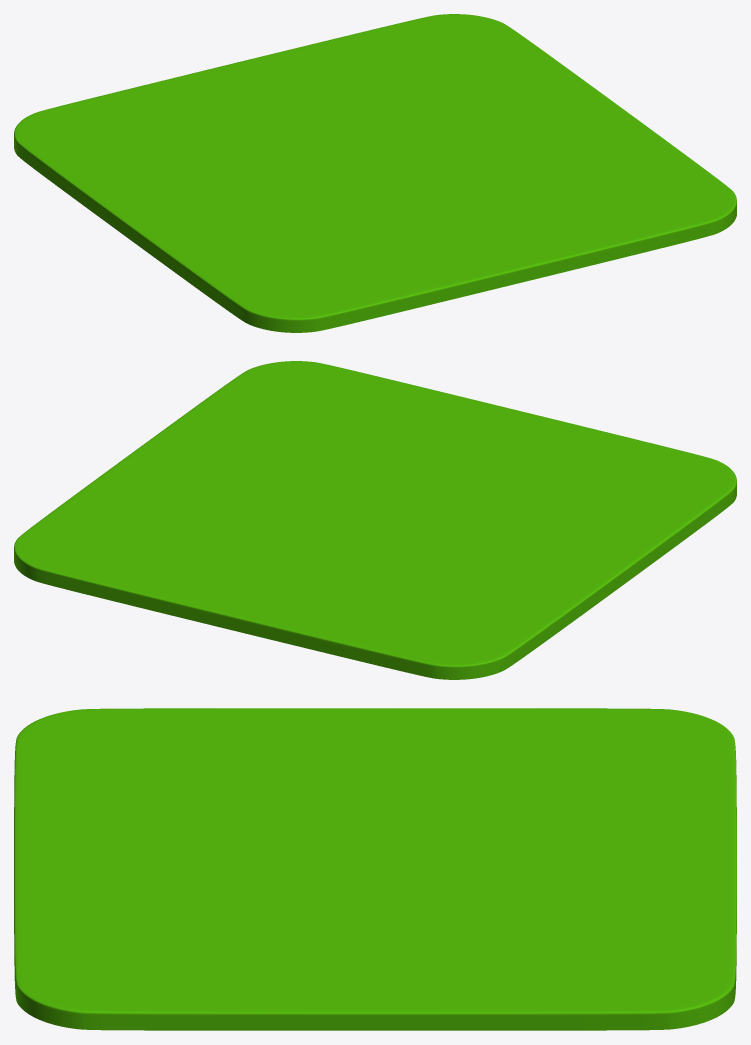
The model's file is mono_tahta_2.fbx.
The picture shows the model from 3 angles, top to bottom: view 1: azimuth 30°, elevation 25°; view 2: azimuth 150°, elevation 25°; view 3: azimuth 270°, elevation 25°; orthographic projection. The views are drawn at different scales.
Visible parts, largest first — view 1: Cube.198; view 2: Cube.198; view 3: Cube.198.
Boxes of the visible parts, x1,y1,x2,y2 form: Cube.198: (14, 14, 736, 332); Cube.198: (14, 361, 736, 679); Cube.198: (14, 708, 736, 1030).
Size of the model in its own units: 1442 by 39.55 by 1442.
